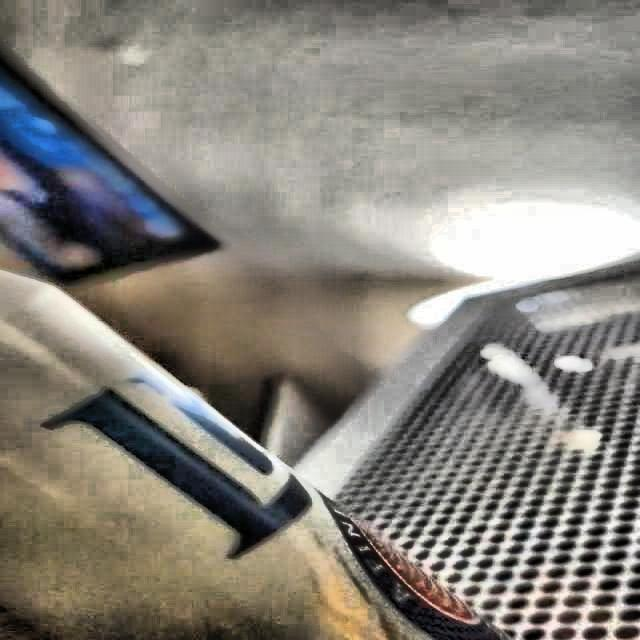can: (0, 239, 533, 640)
